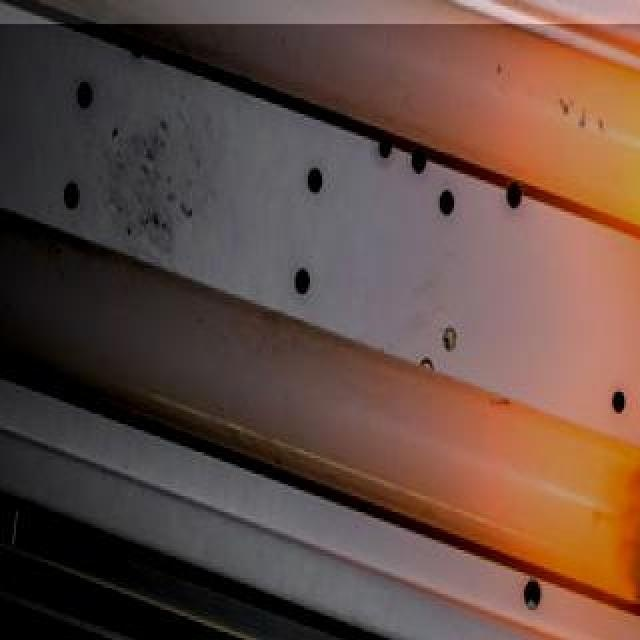fluorescent tube: (0, 254, 640, 640), (0, 0, 640, 332)
